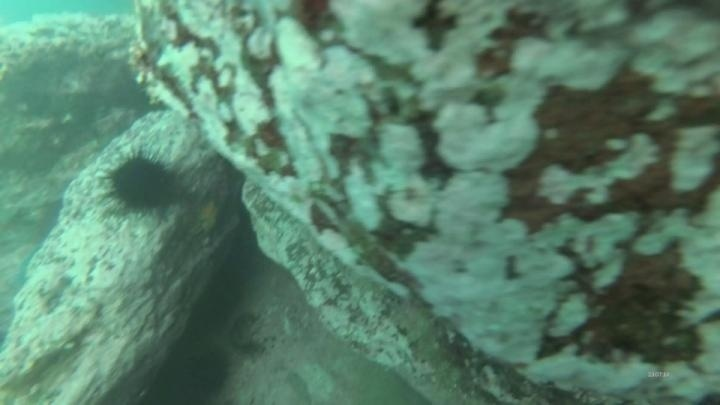echinus: (101, 147, 185, 218), (154, 338, 236, 405)
holothurian: (518, 345, 659, 402)
starfish: (190, 192, 226, 237)
